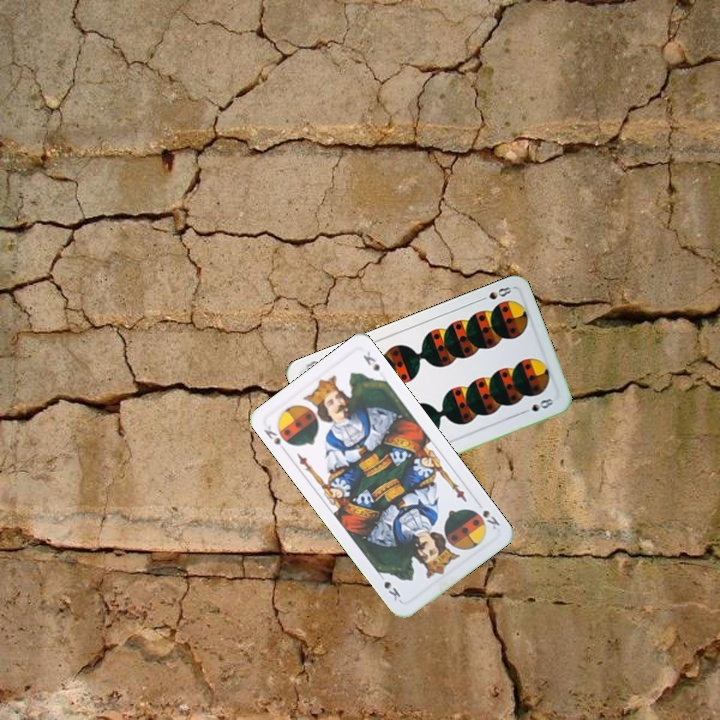S8: (474, 282, 514, 304)
SK: (260, 422, 290, 455), (478, 506, 503, 532)
